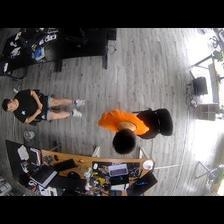normal: (3, 86, 87, 133), (94, 102, 148, 150)
